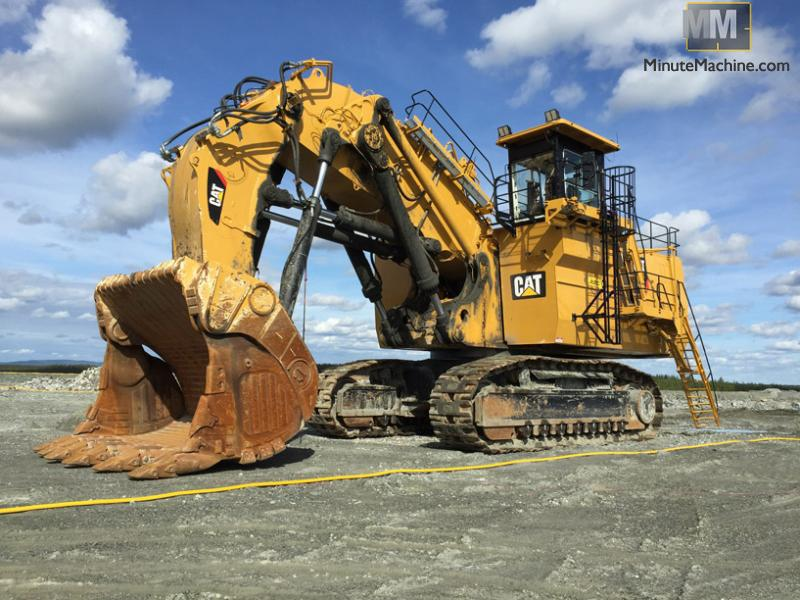shovel: (32, 51, 723, 502)
